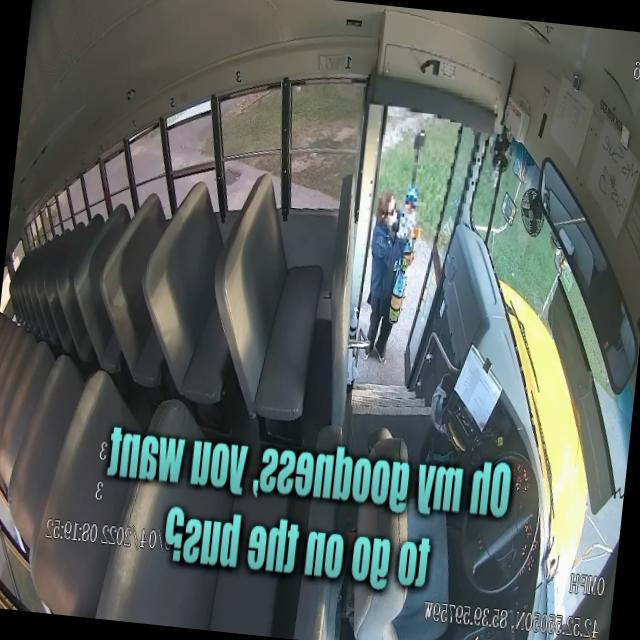bus-door: (404, 127, 479, 384)
